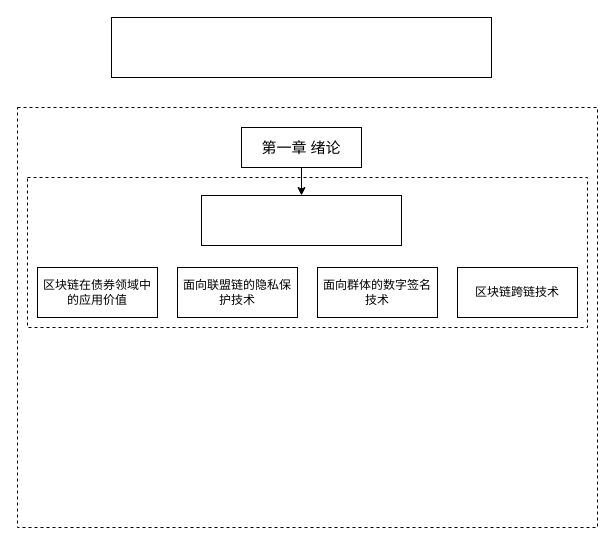
This 615x545 diagram has some shape labels left out. Here are the shapes that lost their labels. From the top down, the centre of each, then its label:
the point at 301,47: 区块链数字债券关键技术研究
the point at 301,220: 第二章 研究现状与文献综述
